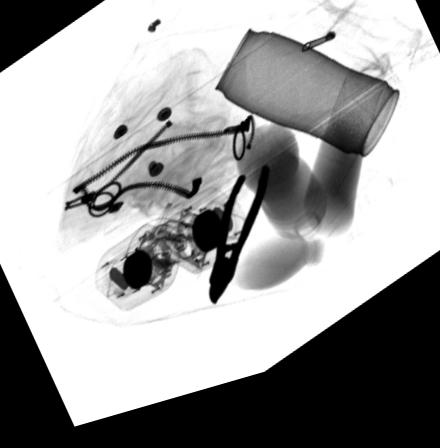Pliers: (206, 179, 268, 319)
